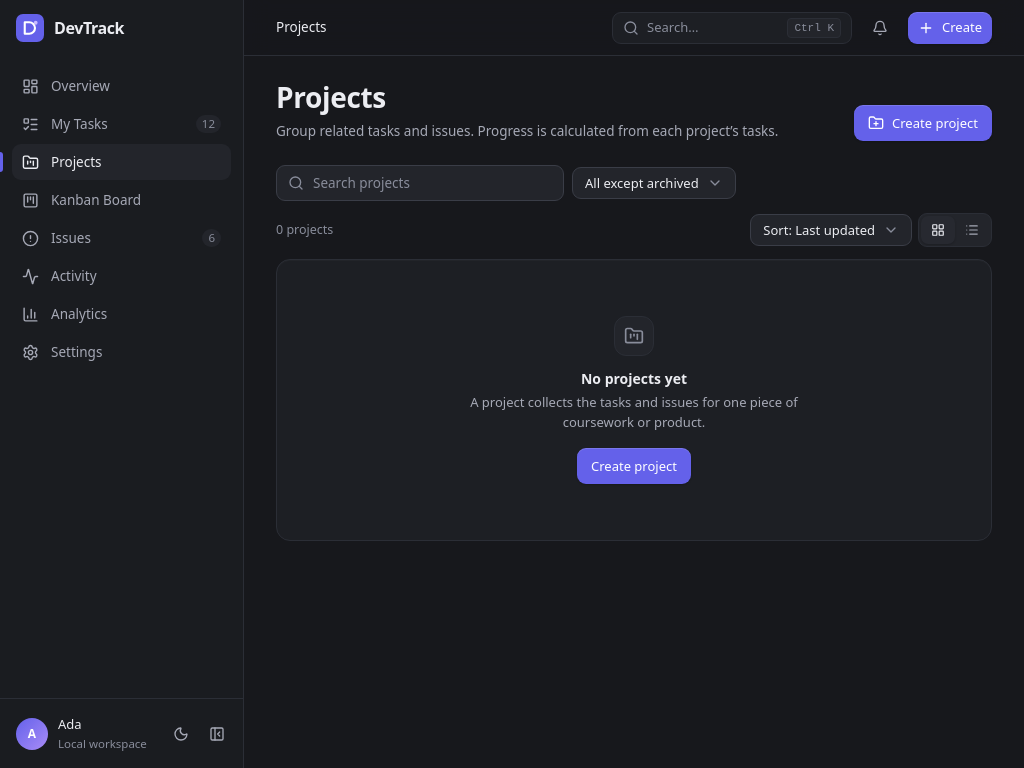
Test: Project forms › rejects a deadline before the start date
The image size is (1024, 768).
Click the 1st button "Create project".
click(923, 123)  # box [854,105,992,141]
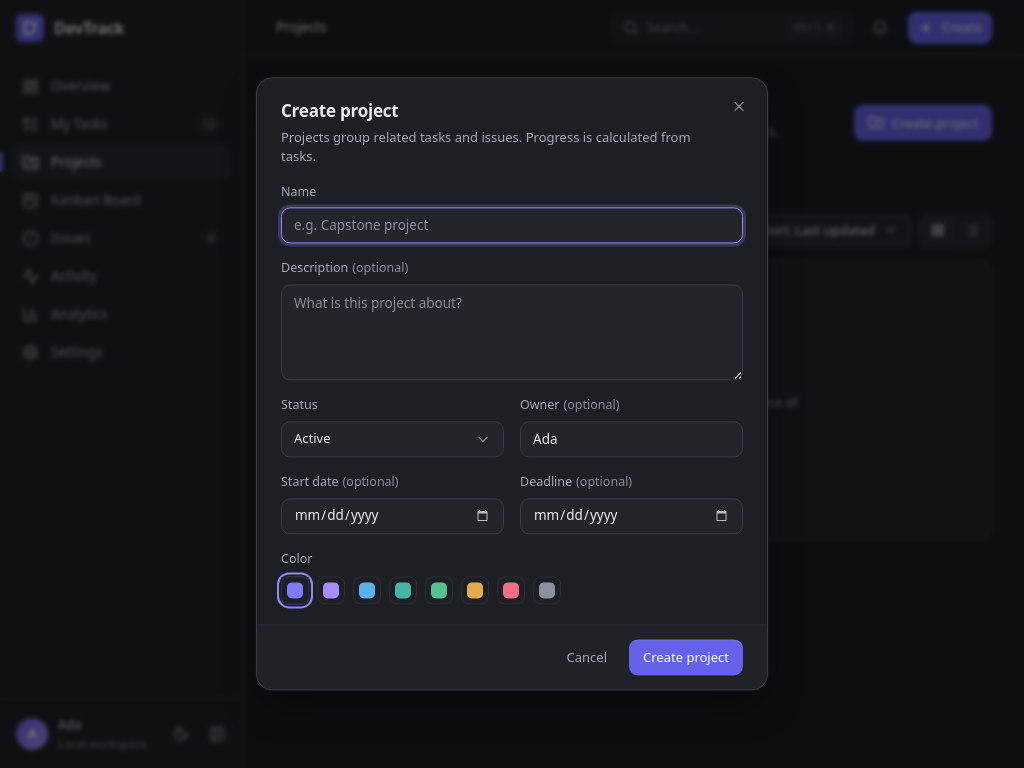
Type "Robotics" into the field labelled "Name".
click(512, 226); type("Robotics")  # box [281,208,743,244]
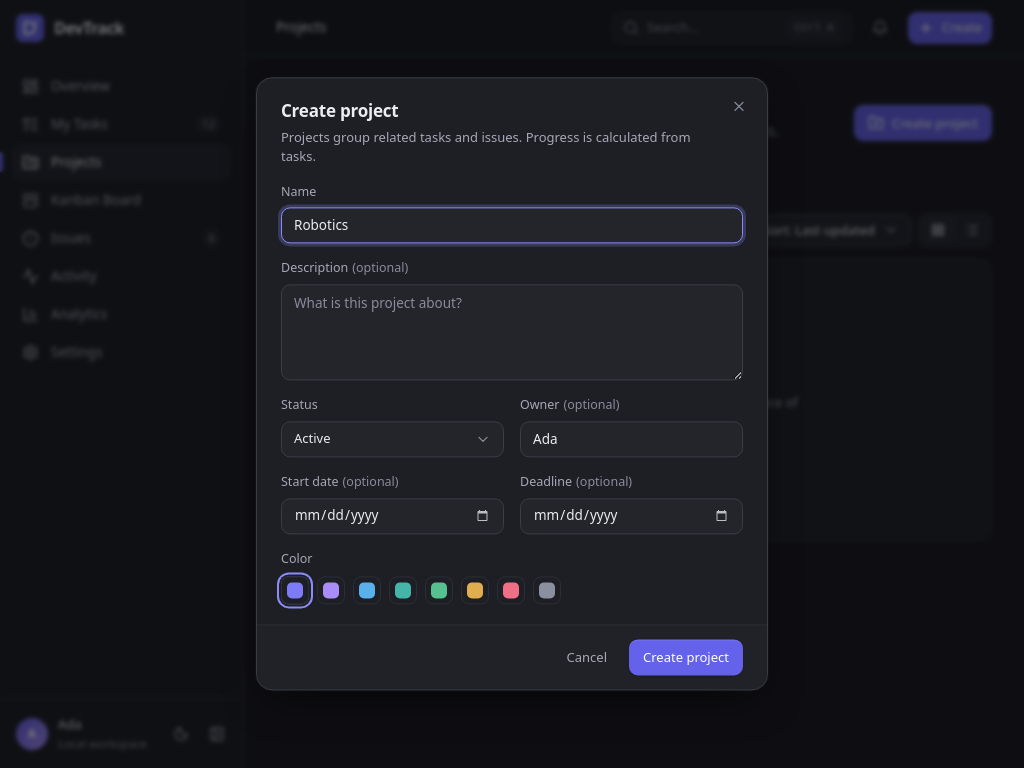
Type "2026-05-10" into the date field labelled "Start date(optional)".
click(392, 516); type("2026-05-10")  # box [281,498,504,534]
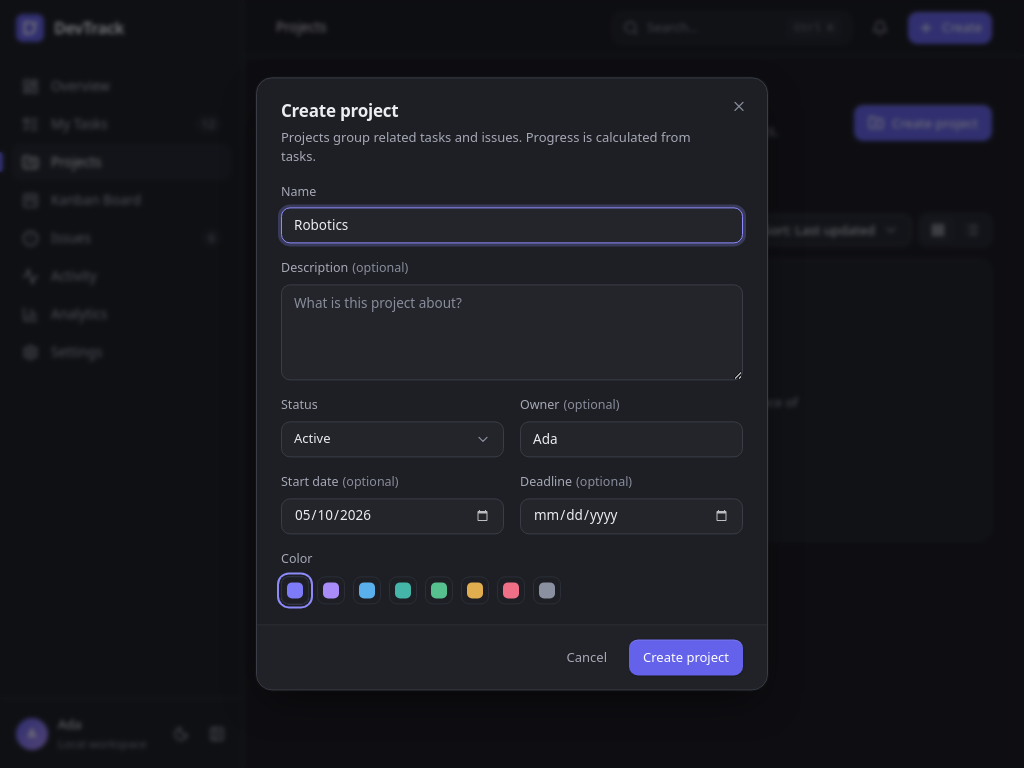
Type "2026-05-01" into the date field labelled "Deadline(optional)".
click(632, 516); type("2026-05-01")  # box [520,498,743,534]
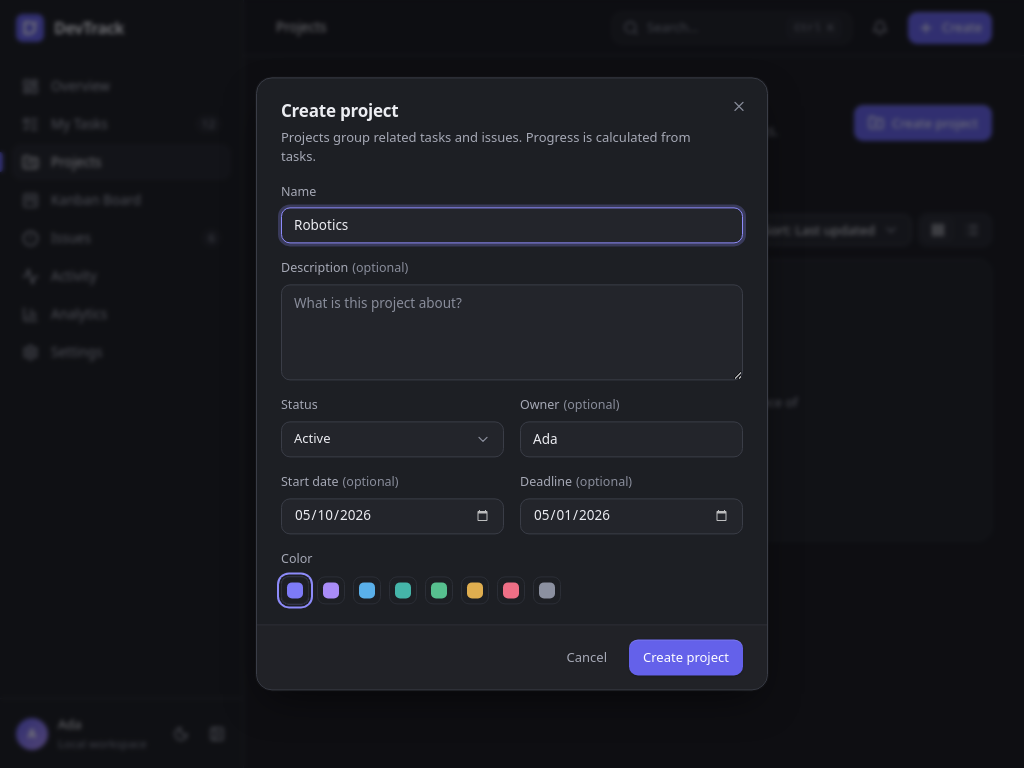
Click the button "Create project".
click(686, 658)  # box [629,640,743,676]
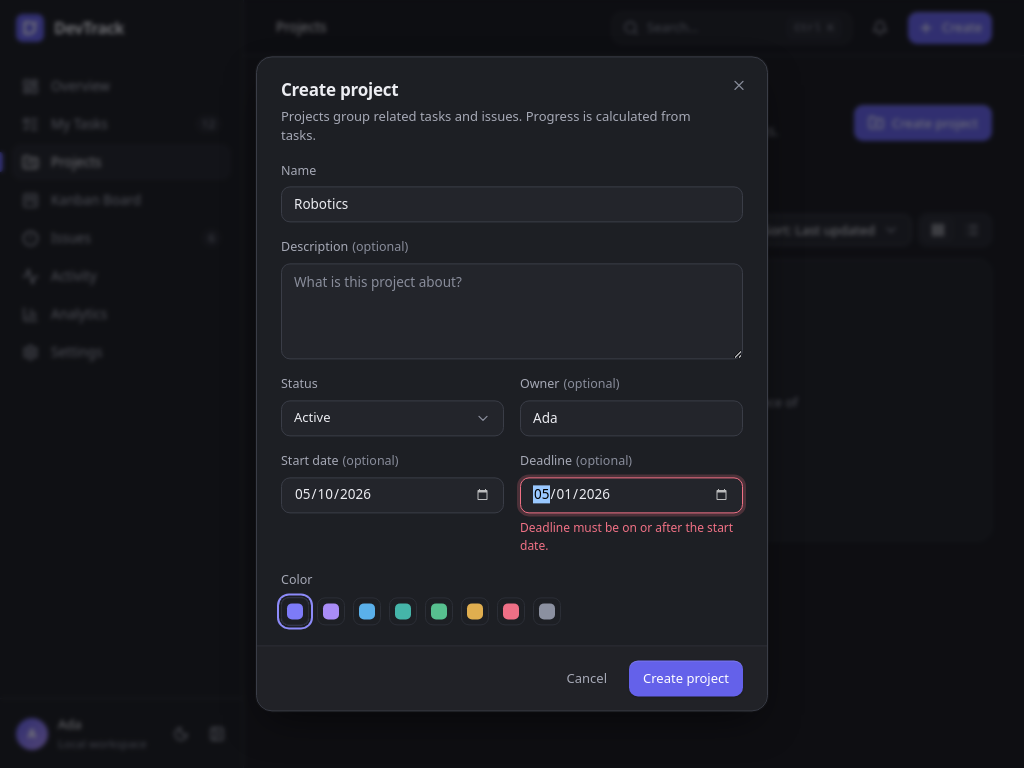
Result: the text "Deadline must be on or after the start date." is shown at [520,519,743,555]
